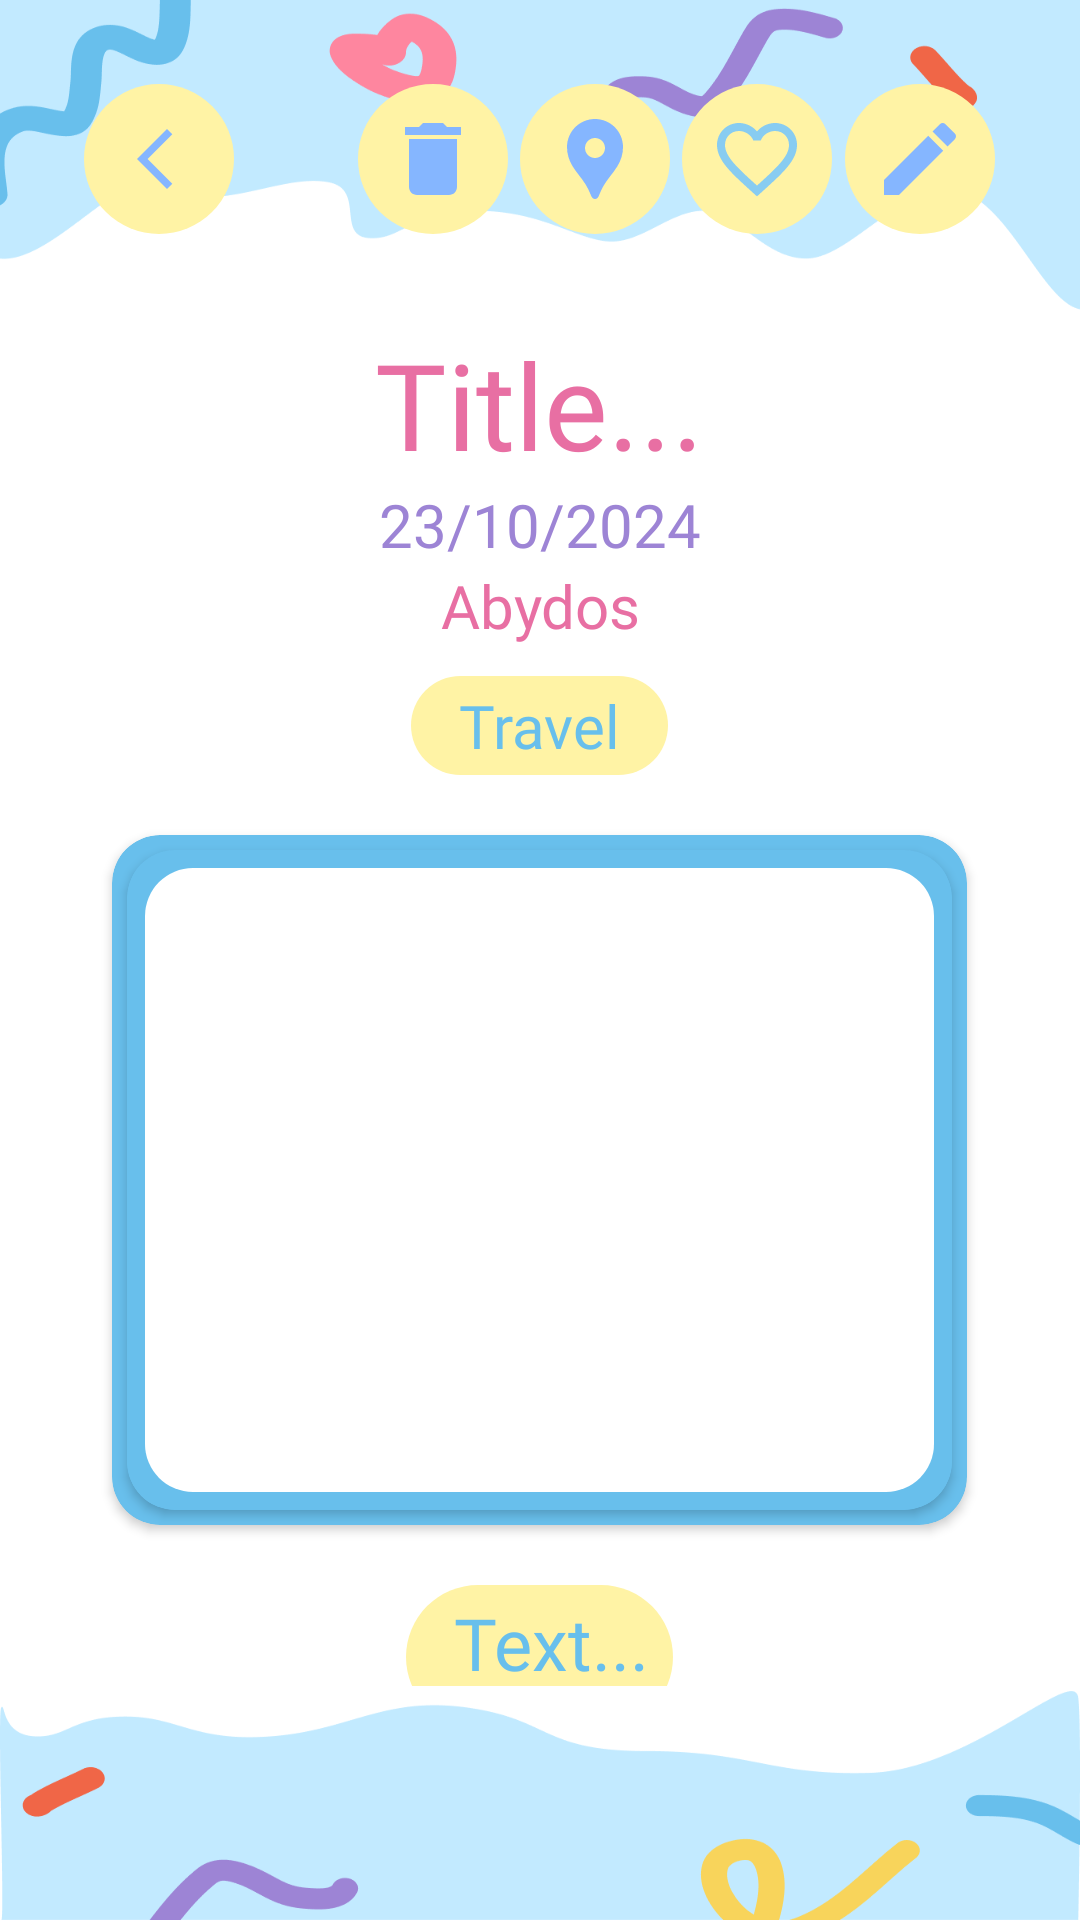

Icons on this 1080 x 1920 Android screen, each with the point to tap as [x,y]:
back: [159,159]
delete: [433,159]
edit: [920,159]
location: [595,159]
